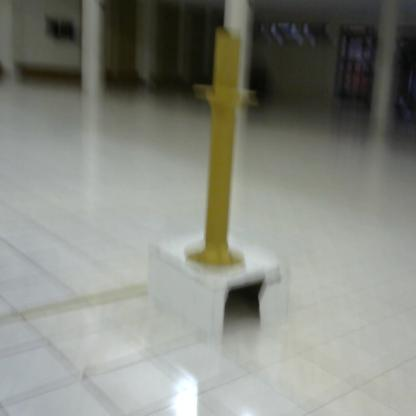pole: (183, 24, 269, 274)
